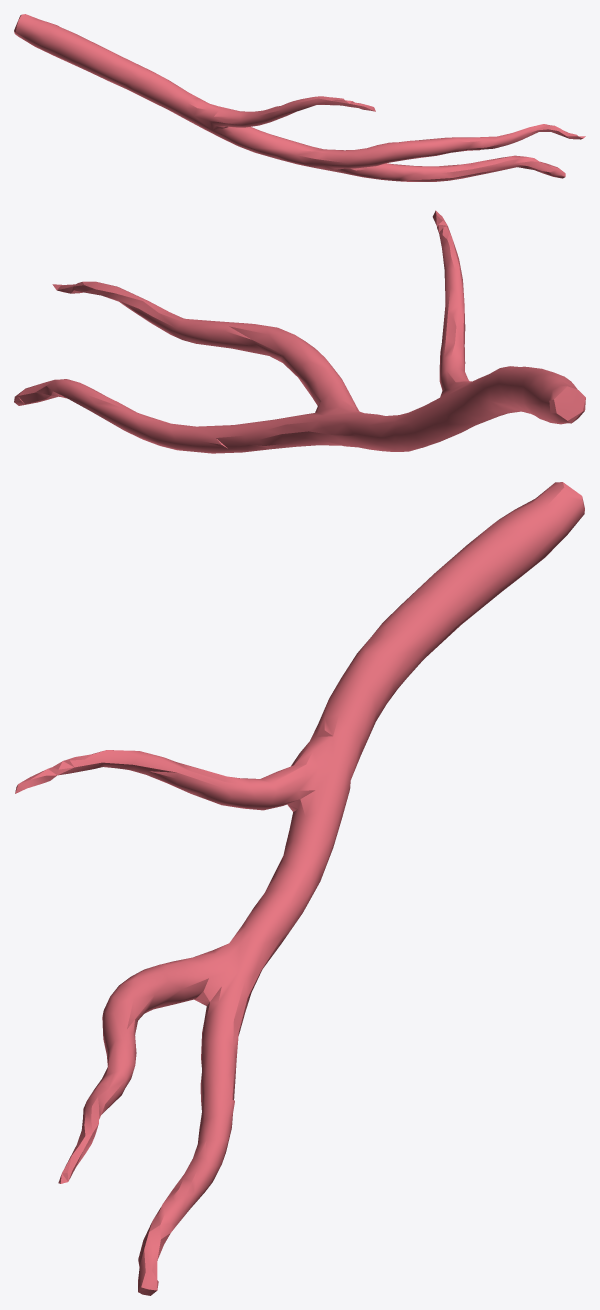
Rendered from fma3818_mm440.glb.
3 renders of one model, top to bottom at view 1: azimuth 30°, elevation 25°; view 2: azimuth 150°, elevation 25°; view 3: azimuth 270°, elevation 25°, orthographic. The views are drawn at different scales.
Parts seen in each view (by area): view 1: FMA3818_MM440; view 2: FMA3818_MM440; view 3: FMA3818_MM440.
Part boxes in pixels (x1,y1,x2,y2): FMA3818_MM440: [14, 14, 585, 181]; FMA3818_MM440: [14, 210, 585, 453]; FMA3818_MM440: [15, 482, 584, 1295].
Size of the model in its own units: 0.0495 by 0.0205 by 0.0273.
